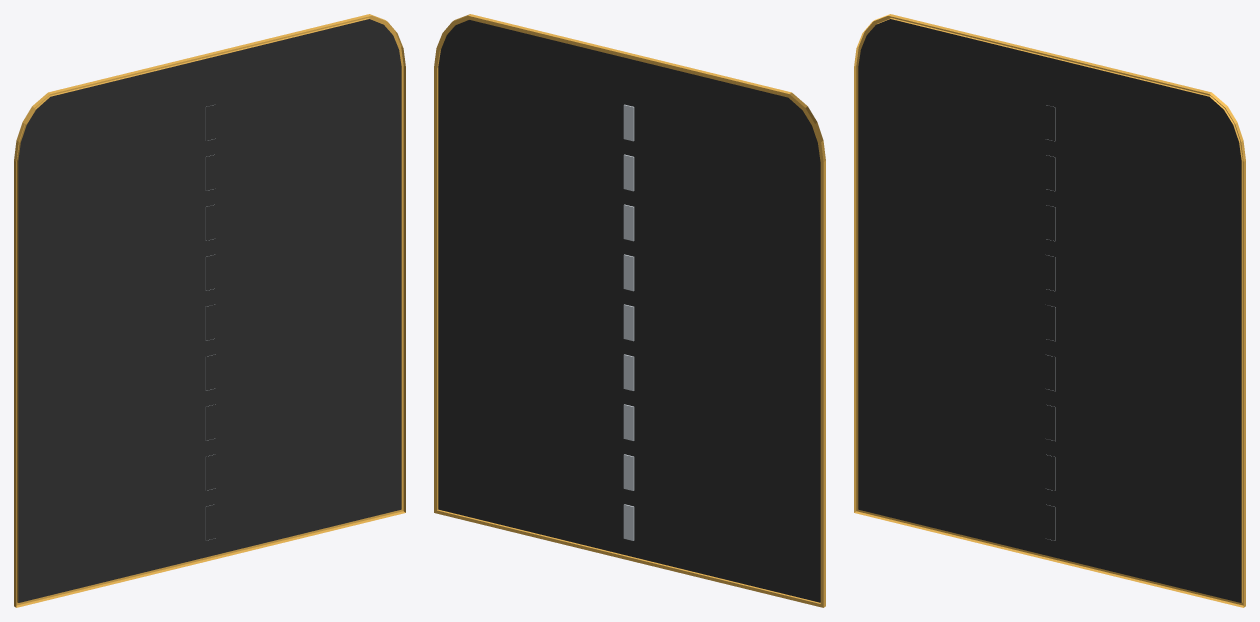
The model's file is FeiJiChang1_Mo.fbx.
3 renders of one model, left to right at view 1: azimuth 30°, elevation 25°; view 2: azimuth 150°, elevation 25°; view 3: azimuth 330°, elevation 25°, orthographic.
Visible parts, largest first — view 1: Box033; view 2: Box033; view 3: Box033.
Part boxes in pixels (<box>): Box033: <box>14,14,405,607</box>; Box033: <box>434,14,825,607</box>; Box033: <box>854,14,1245,607</box>.
Bounding box in the file's own units: 2440 × 3026 × 26.02.
